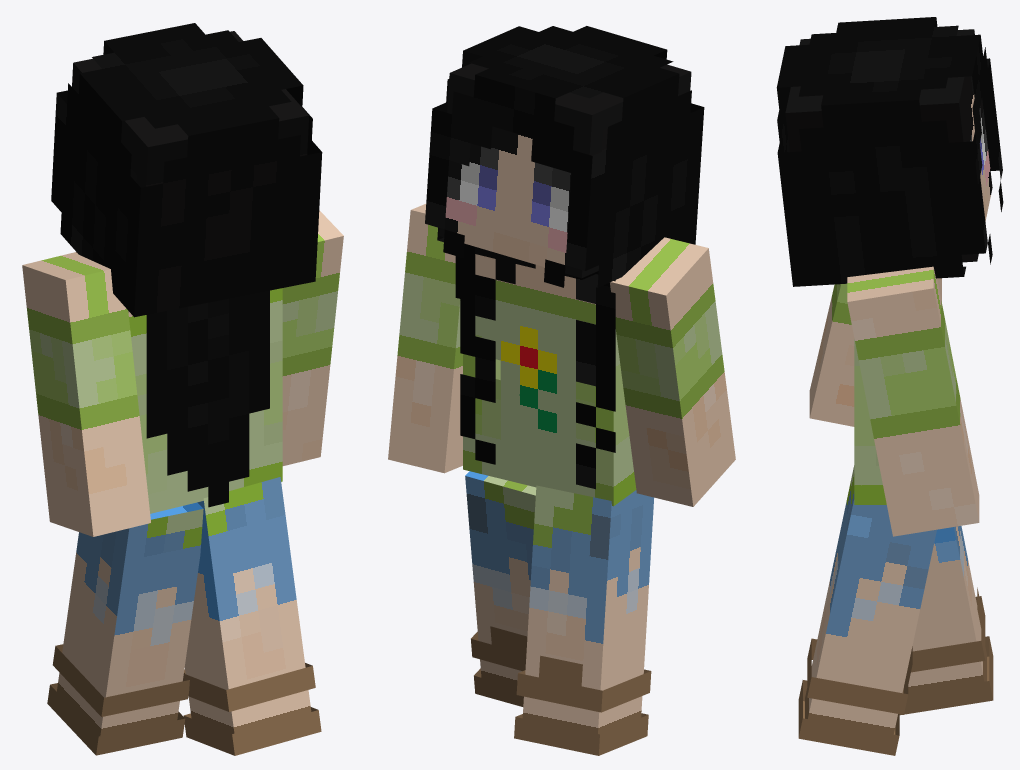
3 views of the same model, side by side, from view 1: azimuth 30°, elevation 25°; view 2: azimuth 150°, elevation 25°; view 3: azimuth 270°, elevation 25° (orthographic). The views are drawn at different scales.
Parts seen in each view (by area): view 1: Hat Layer, Left Arm, Left Leg, Right Leg, Body Layer, Right Arm, Body, Right Leg Layer, Left Leg Layer, Head; view 2: Hat Layer, Left Arm, Body, Left Leg, Head, Right Arm, Body Layer, Right Leg, Left Leg Layer, Right Leg Layer; view 3: Hat Layer, Right Arm, Right Leg, Left Leg, Head, Right Leg Layer, Left Arm, Left Leg Layer, Body.
Part boxes in pixels (left/top/right/bottom): Hat Layer: left=51, top=23, right=322, bottom=317; Left Arm: left=22, top=252, right=150, bottom=536; Left Leg: left=56, top=502, right=203, bottom=736; Right Leg: left=184, top=477, right=311, bottom=733; Body Layer: left=76, top=252, right=269, bottom=507; Right Arm: left=282, top=210, right=343, bottom=465; Body: left=128, top=288, right=282, bottom=513; Right Leg Layer: left=183, top=663, right=321, bottom=755; Left Leg Layer: left=47, top=644, right=189, bottom=755; Head: left=72, top=31, right=309, bottom=187; Hat Layer: left=425, top=26, right=704, bottom=287; Left Arm: left=610, top=237, right=735, bottom=506; Body: left=463, top=254, right=636, bottom=506; Left Leg: left=522, top=485, right=653, bottom=734; Head: left=439, top=63, right=691, bottom=278; Right Arm: left=388, top=204, right=462, bottom=473; Body Layer: left=455, top=243, right=615, bottom=489; Right Leg: left=465, top=471, right=536, bottom=687; Left Leg Layer: left=514, top=655, right=651, bottom=755; Right Leg Layer: left=471, top=626, right=527, bottom=706; Hat Layer: left=776, top=17, right=1003, bottom=286; Right Arm: left=847, top=266, right=979, bottom=536; Right Leg: left=805, top=465, right=936, bottom=734; Left Leg: left=902, top=526, right=986, bottom=693; Head: left=785, top=29, right=992, bottom=262; Right Leg Layer: left=798, top=638, right=912, bottom=755; Left Arm: left=809, top=283, right=854, bottom=426; Left Leg Layer: left=899, top=587, right=993, bottom=715; Body: left=854, top=278, right=941, bottom=504.
Bounding box in the file's own units: 0.9062 × 2.09 × 0.6649.
Materials: 1 (1 with a texture image).
